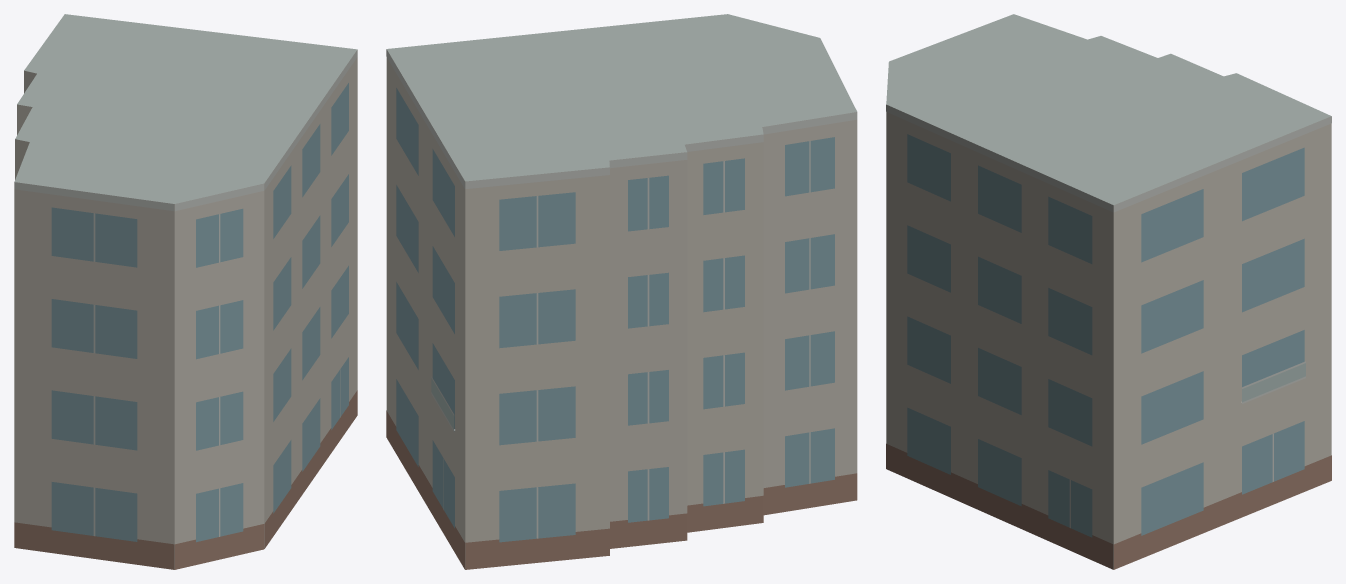
File: survey-upis-32716636.glb
The picture shows the model from 3 angles, left to right: view 1: azimuth 30°, elevation 25°; view 2: azimuth 150°, elevation 25°; view 3: azimuth 270°, elevation 25°; orthographic projection. The views are drawn at different scales.
Parts seen in each view (by area): view 1: survey-upis-32716636.tmp; view 2: survey-upis-32716636.tmp; view 3: survey-upis-32716636.tmp.
Part boxes in pixels (x1,y1,x2,y2): survey-upis-32716636.tmp: [14, 14, 357, 569]; survey-upis-32716636.tmp: [386, 14, 857, 569]; survey-upis-32716636.tmp: [886, 14, 1331, 569].
Bounding box in the file's own units: 13.85 × 12.3 × 13.63.
